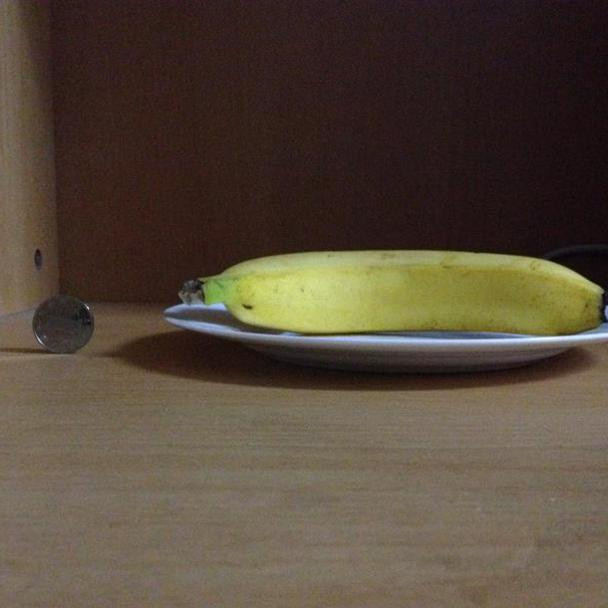banana: (178, 243, 607, 337)
